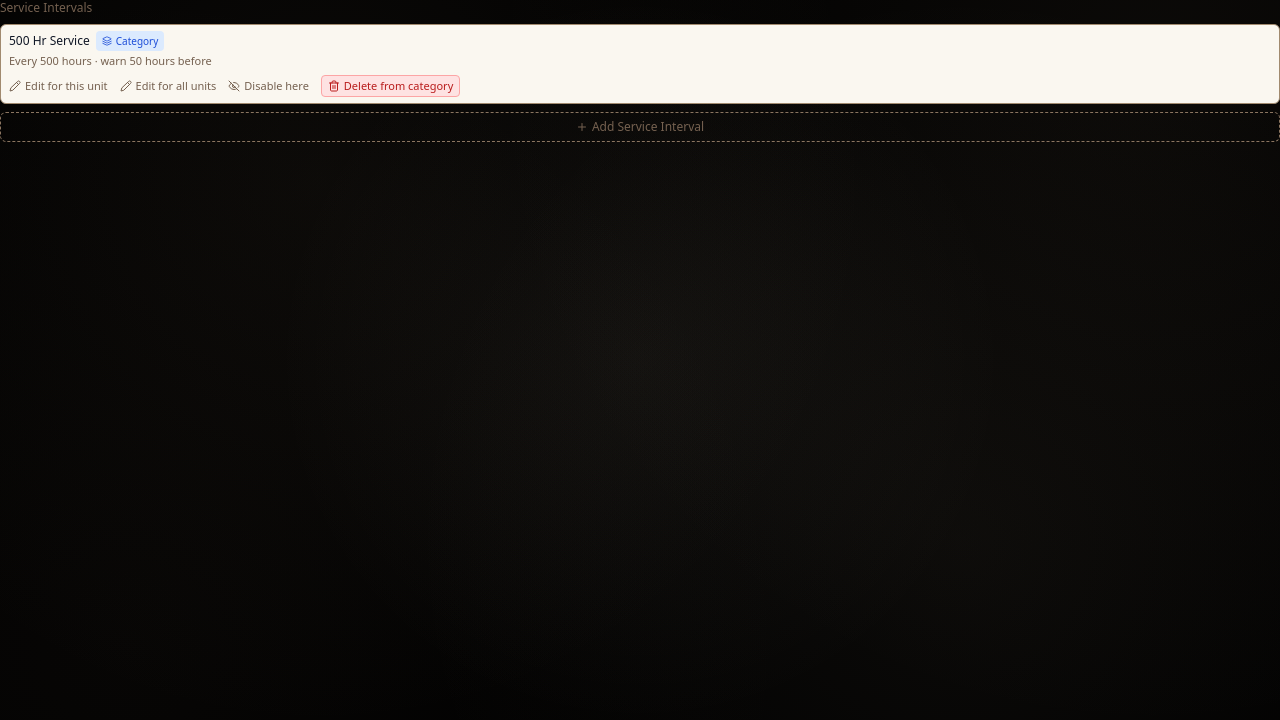
Test: ServiceIntervalManager — validation › rejects a nameless interval and blocks saving
Click the button "Add Service Interval" at (640, 127), box [0, 112, 1279, 142]
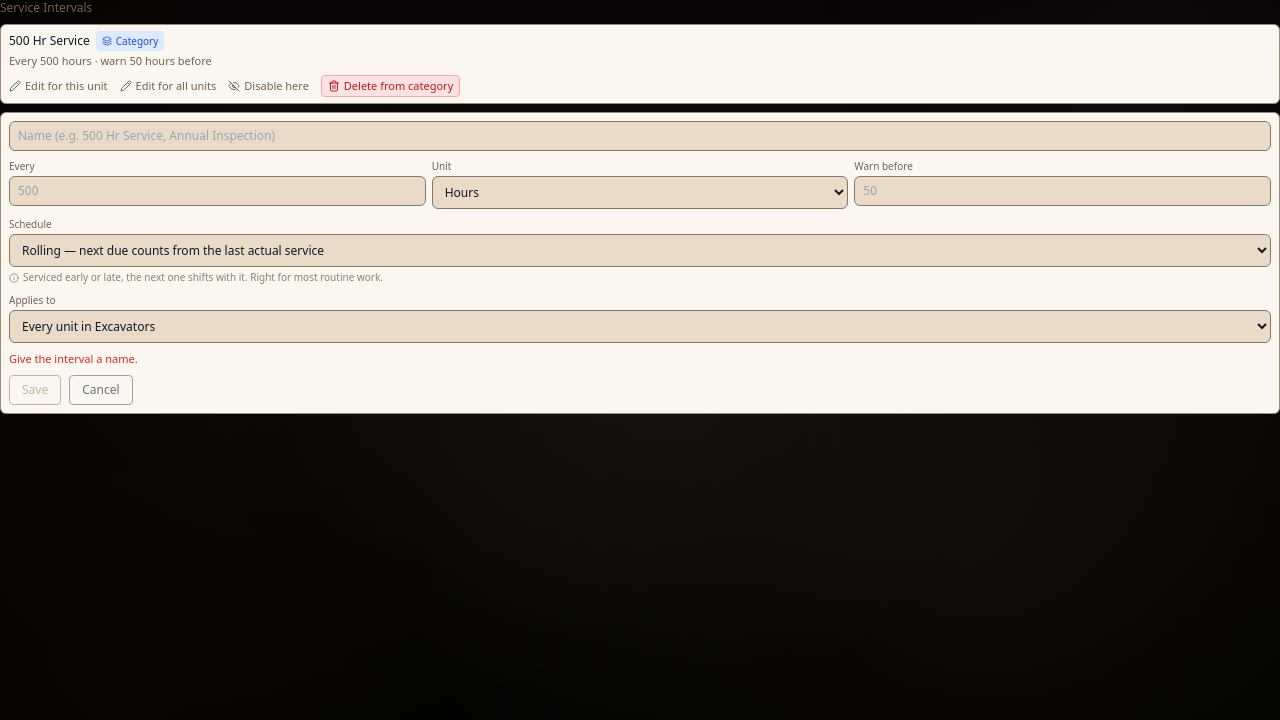
Expected: the text "Give the interval a name." is shown, [9, 351, 138, 366]
Expected: the button "Save" is disabled, [9, 375, 61, 405]
